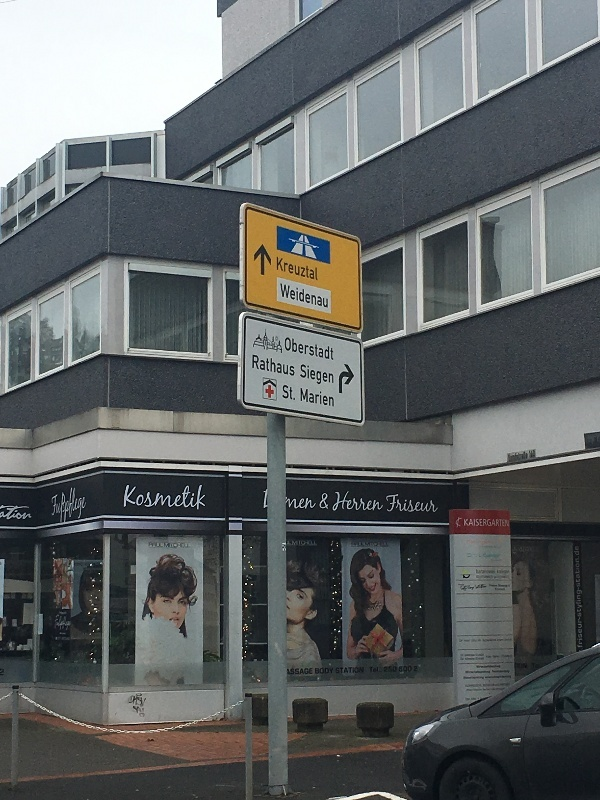text: (465, 542, 480, 699), (481, 542, 496, 699), (497, 542, 512, 699), (454, 542, 464, 699), (577, 544, 586, 650), (65, 488, 80, 526), (129, 483, 144, 518), (145, 483, 160, 518), (161, 483, 176, 518), (177, 483, 192, 518), (193, 483, 207, 518), (52, 488, 64, 526), (289, 283, 304, 310), (305, 283, 320, 310), (289, 256, 304, 282), (289, 336, 304, 361), (305, 336, 320, 361), (305, 363, 320, 387), (401, 490, 416, 514), (417, 490, 432, 514), (257, 354, 272, 377), (273, 354, 288, 377), (305, 256, 318, 282), (386, 490, 400, 514), (337, 491, 352, 513), (353, 491, 368, 513), (321, 336, 334, 361), (513, 542, 515, 699), (321, 363, 334, 387), (369, 491, 383, 513), (305, 388, 320, 408), (17, 504, 33, 522), (277, 256, 288, 282), (1, 504, 16, 522), (321, 388, 334, 408), (289, 496, 304, 512), (81, 488, 87, 526), (513, 450, 528, 465), (321, 283, 329, 310), (433, 490, 442, 514), (574, 544, 576, 650), (305, 496, 317, 512), (281, 283, 288, 310), (321, 492, 330, 512), (465, 517, 480, 529), (481, 517, 496, 529), (264, 488, 272, 510), (529, 449, 544, 460), (497, 517, 510, 529), (289, 666, 304, 676), (177, 541, 193, 550), (289, 354, 295, 377), (161, 541, 176, 550), (369, 665, 384, 674), (385, 665, 400, 674), (401, 665, 416, 674), (337, 666, 352, 674), (289, 385, 296, 401), (149, 541, 160, 550), (252, 354, 256, 377), (353, 666, 364, 674), (321, 668, 333, 675), (305, 666, 313, 676), (283, 385, 288, 401), (300, 388, 304, 408), (285, 336, 288, 361), (301, 363, 304, 387), (126, 483, 128, 518), (508, 450, 512, 465), (315, 668, 320, 675), (335, 491, 336, 513), (319, 492, 320, 512), (287, 666, 288, 676), (417, 665, 418, 674), (335, 666, 336, 674)
